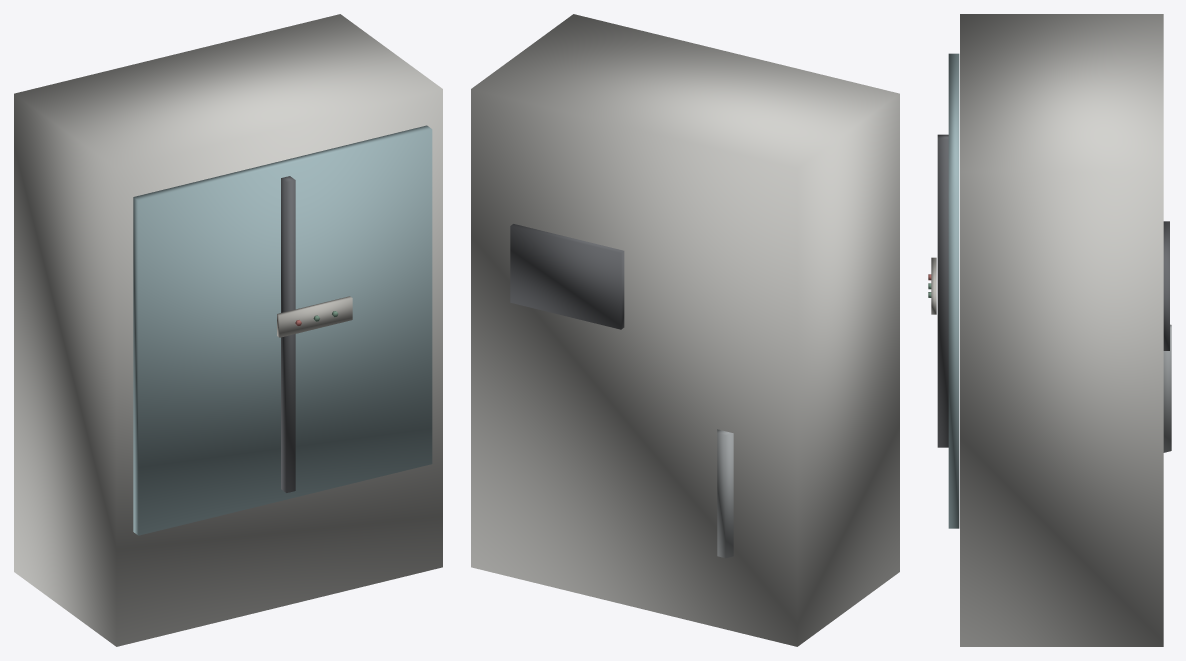
File: freezer_chest__service.glb
3 renders of one model, left to right at view 1: azimuth 30°, elevation 25°; view 2: azimuth 150°, elevation 25°; view 3: azimuth 270°, elevation 25°, orthographic.
Parts seen in each view (by area): view 1: world; view 2: world; view 3: world.
Boxes of the visible parts, x1,y1,x2,y2 form: world: [14, 14, 442, 646]; world: [471, 14, 899, 646]; world: [928, 14, 1171, 646].
Size of the model in its own units: 1.25 by 1.75 by 0.8131.
